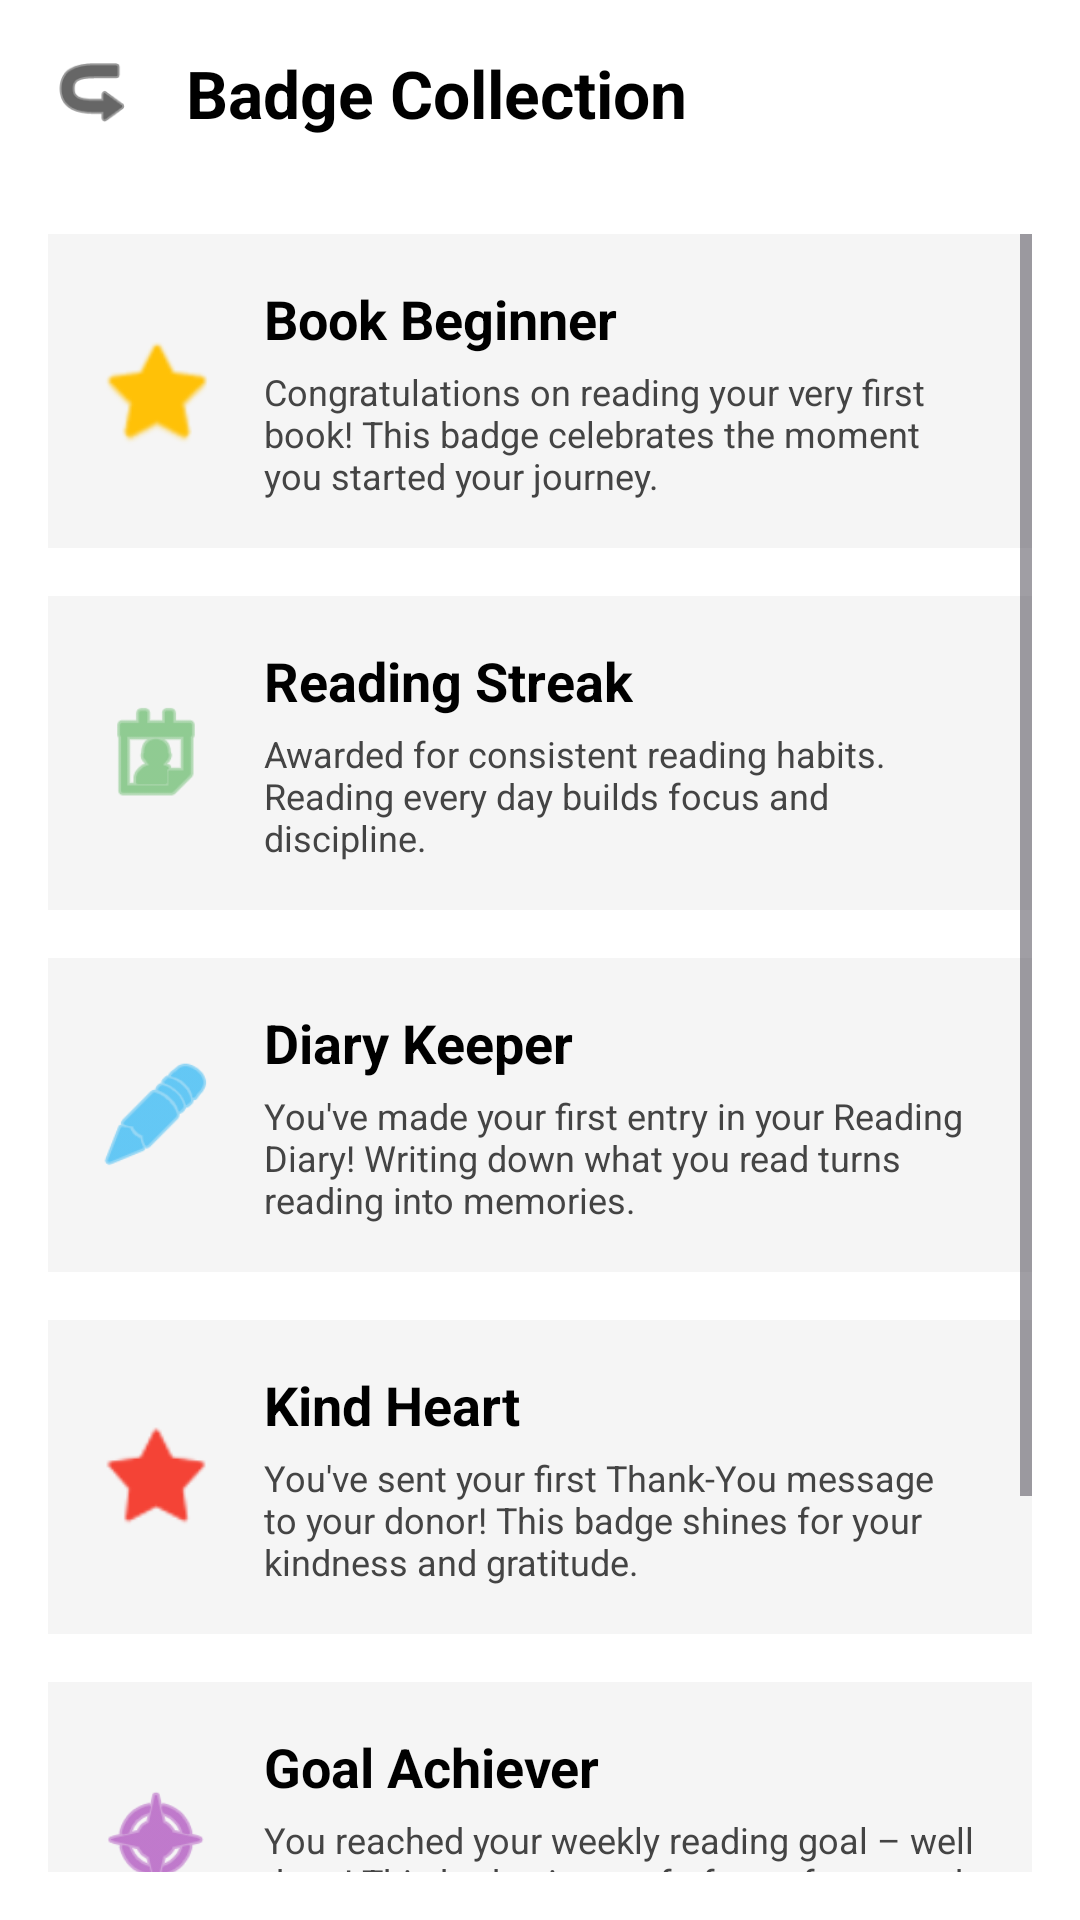

Where to tap for icons on this 1080*1920 app screen, as (x,y):
calendar: (156,752)
compass: (155,1832)
edit: (155,1114)
star on: (157,392), (156,1475)
